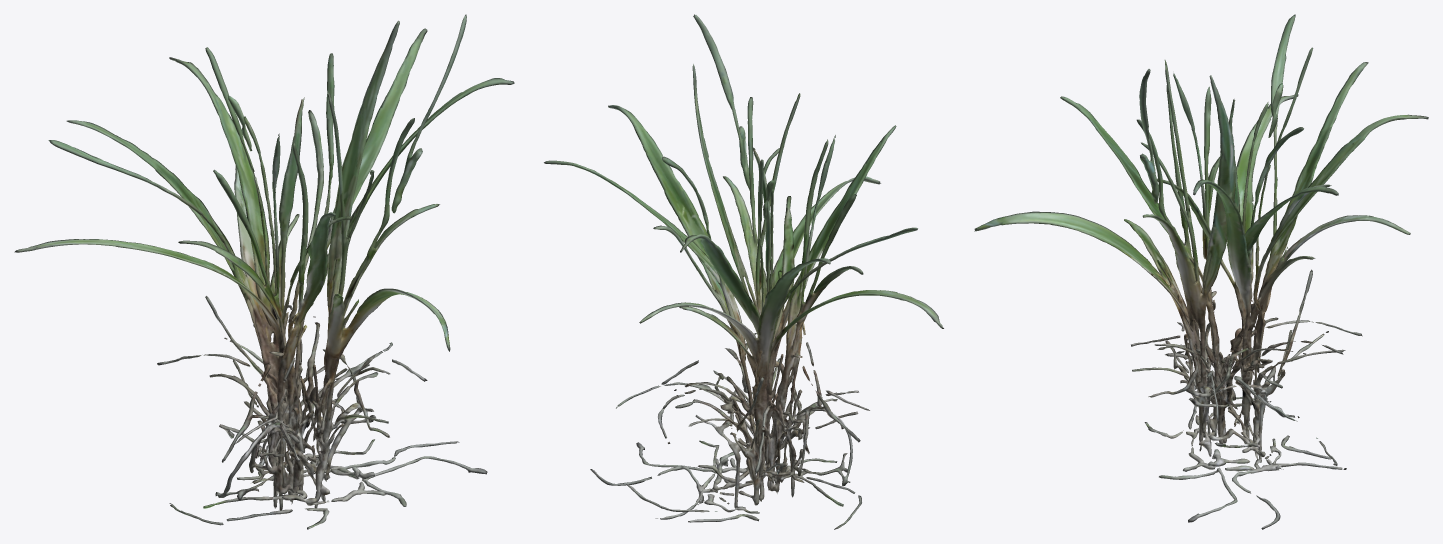
File: Sprouting_Onion_in_So_0929133844.glb
The picture shows the model from 3 angles, left to right: view 1: azimuth 30°, elevation 25°; view 2: azimuth 150°, elevation 25°; view 3: azimuth 270°, elevation 25°; orthographic projection. The views are drawn at different scales.
Size of the model in its own units: 1.75 by 1.87 by 1.75.
1 material, 1 textured.
